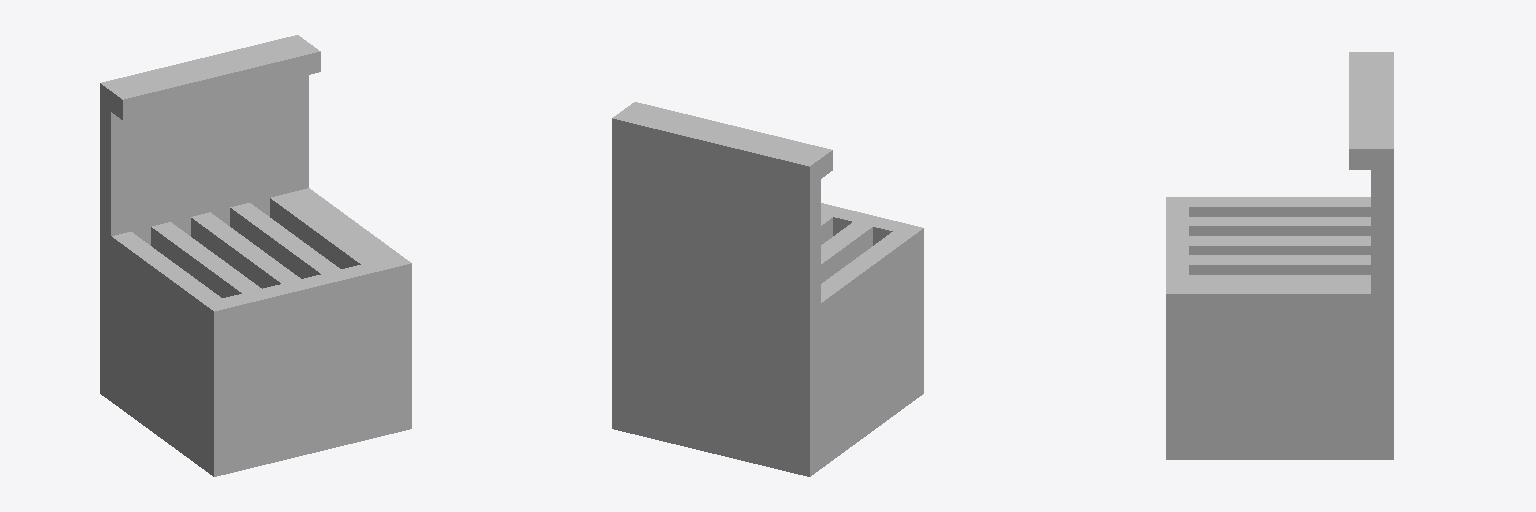
Rendered from Box Nails.obj.
3 views of the same model, side by side, from view 1: azimuth 30°, elevation 25°; view 2: azimuth 150°, elevation 25°; view 3: azimuth 270°, elevation 25° (orthographic).
Parts seen in each view (by area): view 1: object 1; view 2: object 1; view 3: object 1.
Boxes of the visible parts, box(x1,y1,x2,y2) form: object 1: box(100, 35, 411, 476); object 1: box(612, 102, 923, 476); object 1: box(1166, 52, 1393, 459).
Size of the model in its own units: 1 by 1.5 by 1.